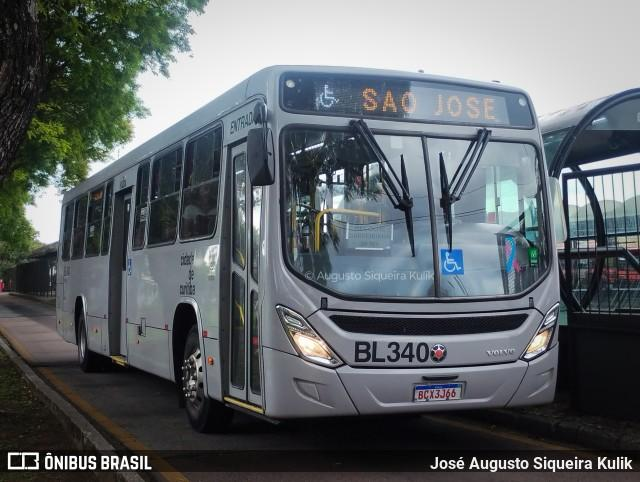SAO JOSE: (357, 82, 502, 124)
